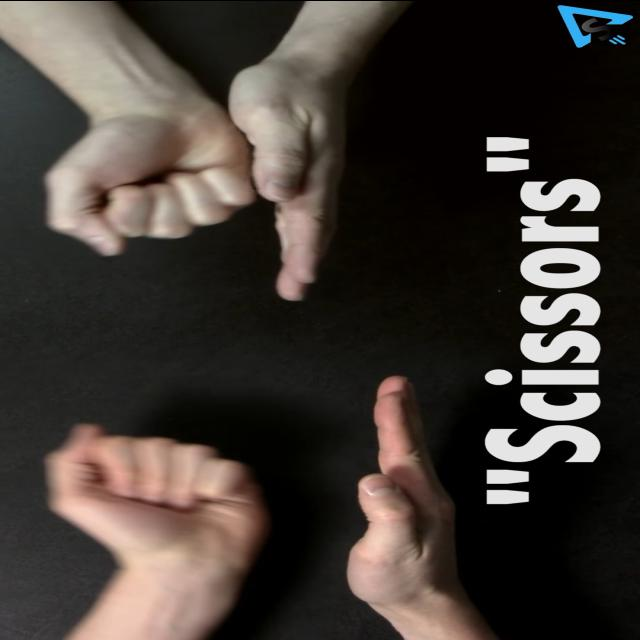Rock: (45, 104, 254, 254), (47, 423, 263, 563)
